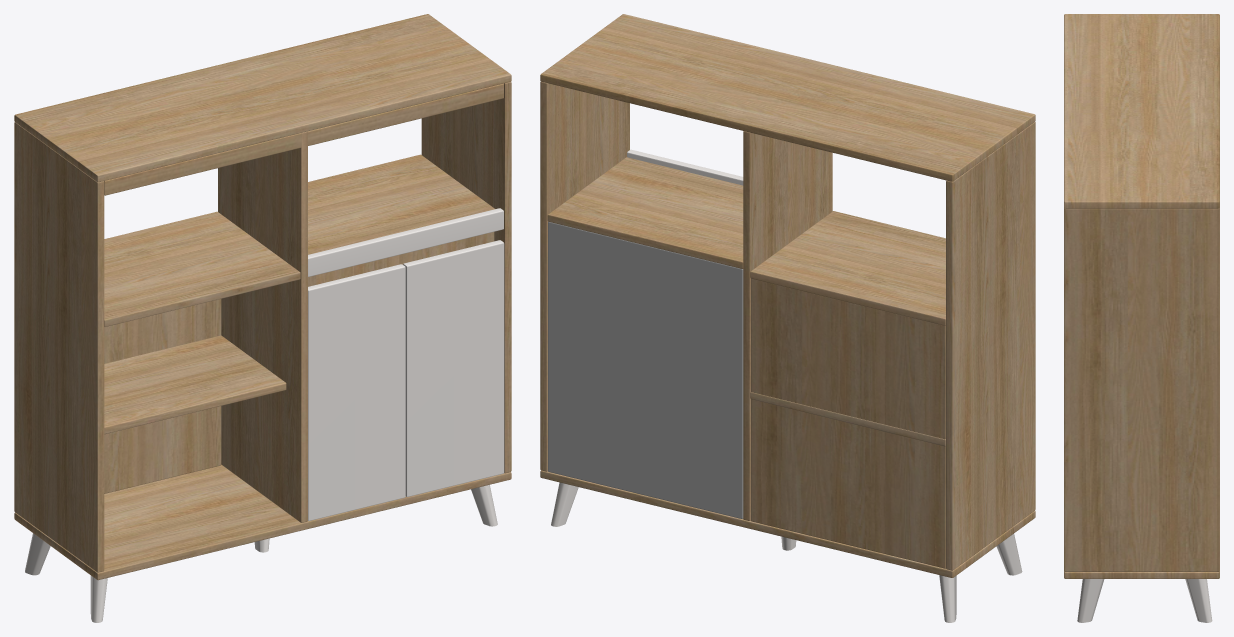
3 views of the same model, side by side, from view 1: azimuth 30°, elevation 25°; view 2: azimuth 150°, elevation 25°; view 3: azimuth 270°, elevation 25° (orthographic). The views are drawn at different scales.
Visible parts, largest first — view 1: 7; view 2: 7; view 3: 7.
Boxes of the visible parts, bbox=[...] form: 7: bbox=[14, 14, 511, 622]; 7: bbox=[540, 14, 1035, 622]; 7: bbox=[1064, 14, 1219, 622].
Bounding box in the file's own units: 1.14 × 1.2 × 0.4.
Materials: 1 (1 with a texture image).
